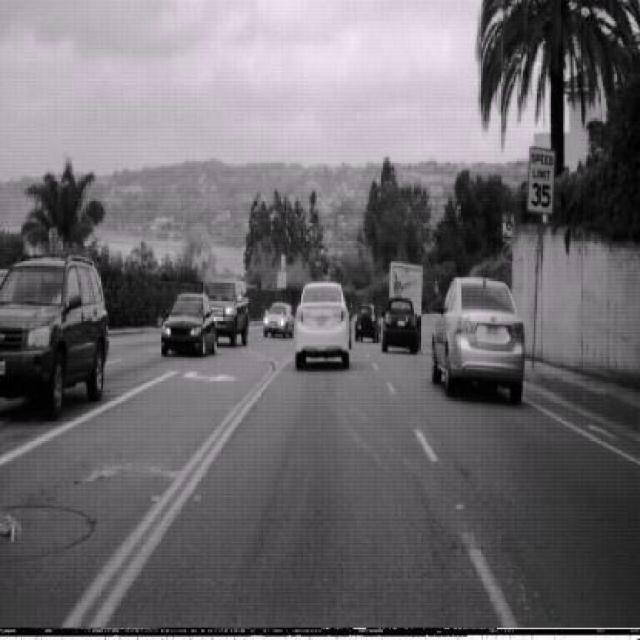speedLimit35: (524, 145, 556, 215)
